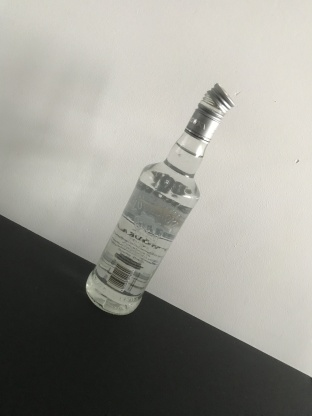nakretka: (183, 81, 235, 145)
